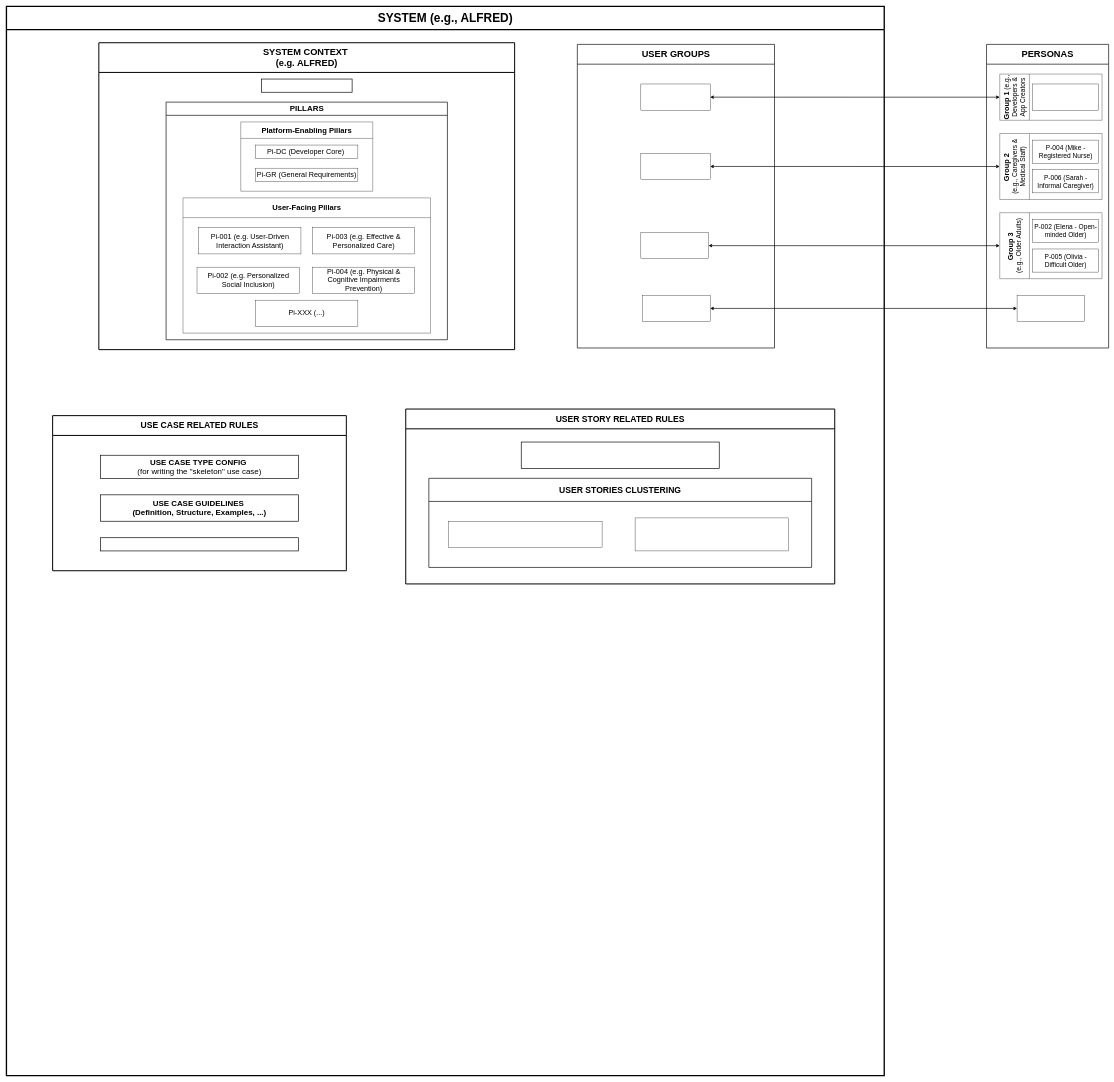
Some shapes in this 1114 by 1082 pixel diagram are drawn without their labels. The centre of each missing label's shape, as x and y in pixels:
FUNCTIONAL USER STORIES CLUSTERING GUIDELINES (Poort and de With technique): the point at 712,534
Group n: the point at 1051,308
NON-FUNCTIONAL USER STORIES CLUSTERS (Hard-coded by Pillars): the point at 525,534
P-001 (Daniel - Full-stack developer): the point at 1065,97
SYSTEM SUMMARY: the point at 306,85
USE CASE TASK EXTRACTION EXAMPLES: the point at 199,544
User group 1's guidelines: the point at 675,97
User group 2's guidelines: the point at 675,166
User group 3 's guidelines: the point at 675,245
User group n 's guidelines: the point at 676,308
USER STORIES GUIDELINES (Definition, Structure, Examples, ...): the point at 620,455
